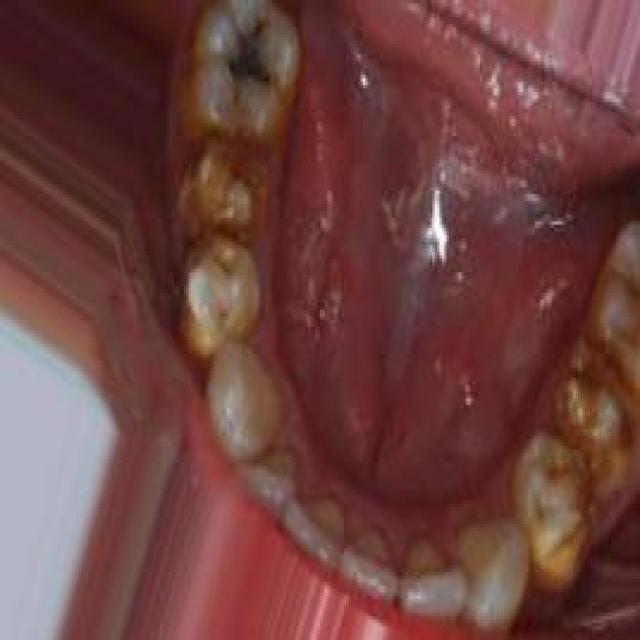caries: (225, 14, 281, 118)
